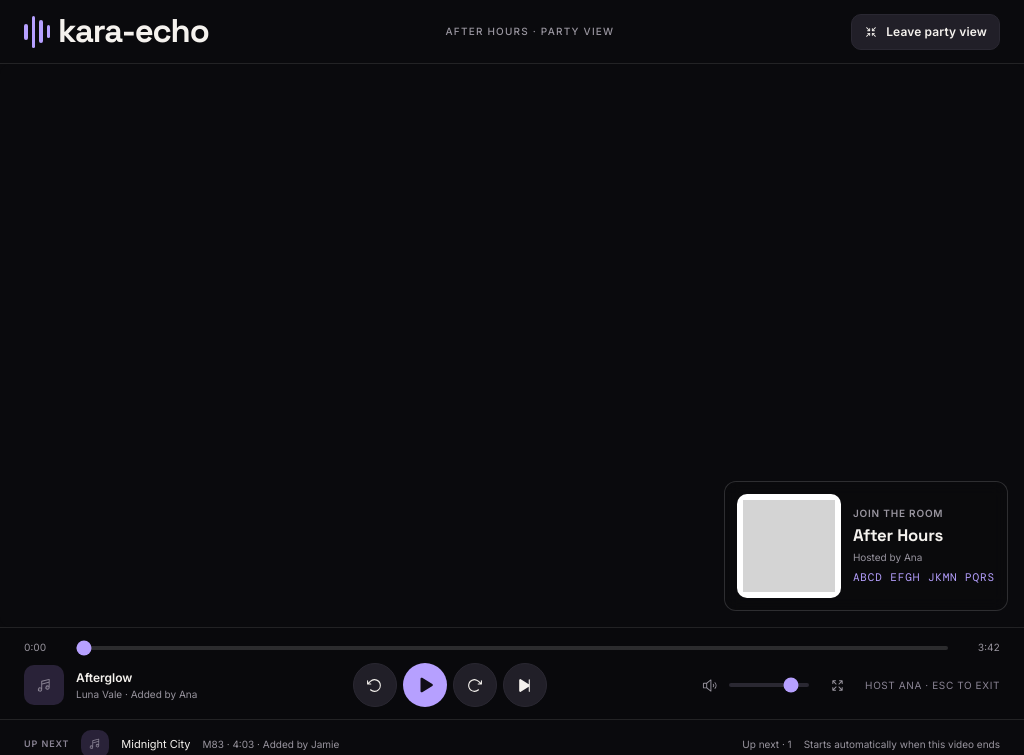
Scenario: host room workspace › returns from party view to the stage, not the discovery page
Click the button "Leave party view" at [926, 32], box [851, 14, 1000, 50]
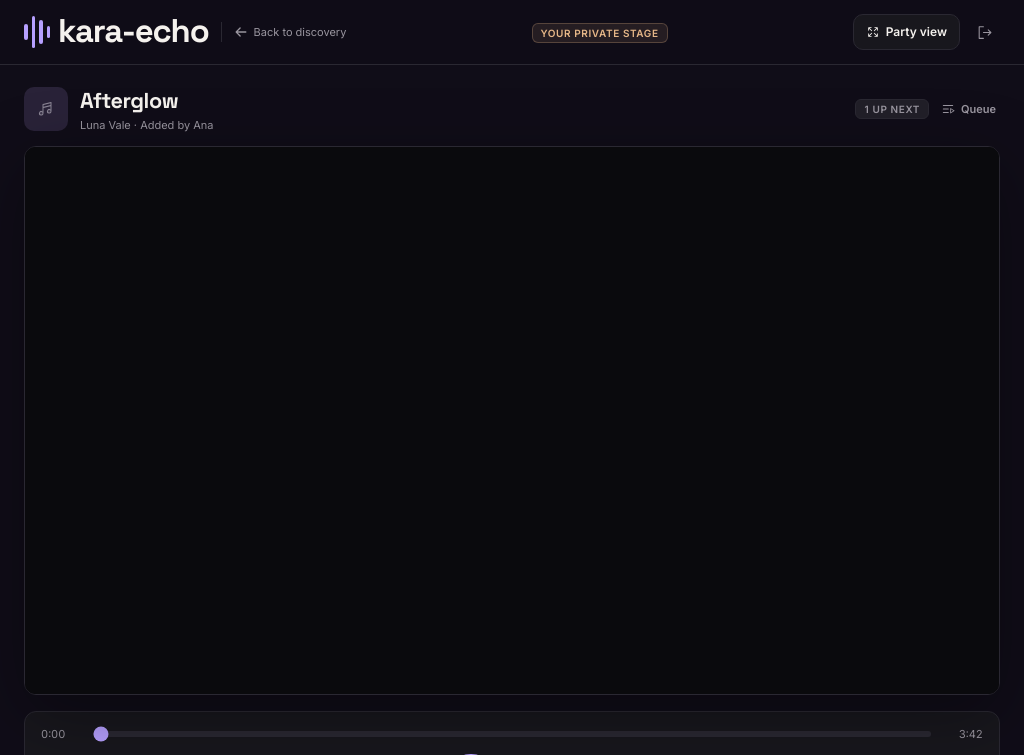
Check: the text "Your private stage" is shown, box [532, 23, 668, 43]
